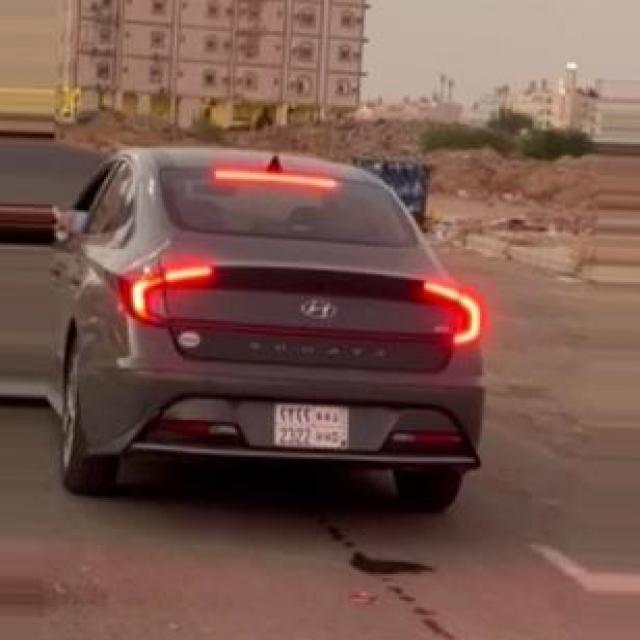Car-plate: (269, 379, 358, 466)
